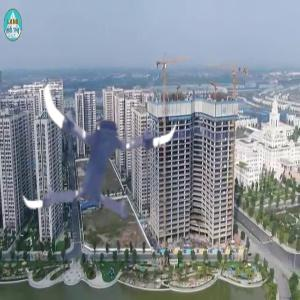drone: (22, 68, 182, 228)
